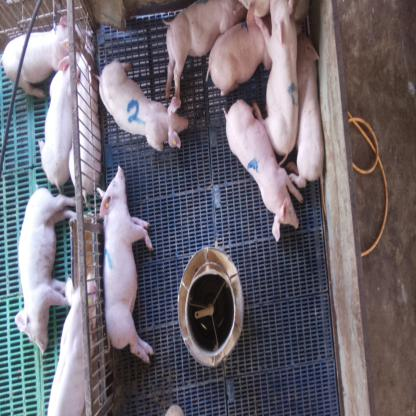2: (127, 99, 145, 131)
N-A: (286, 83, 300, 109)
